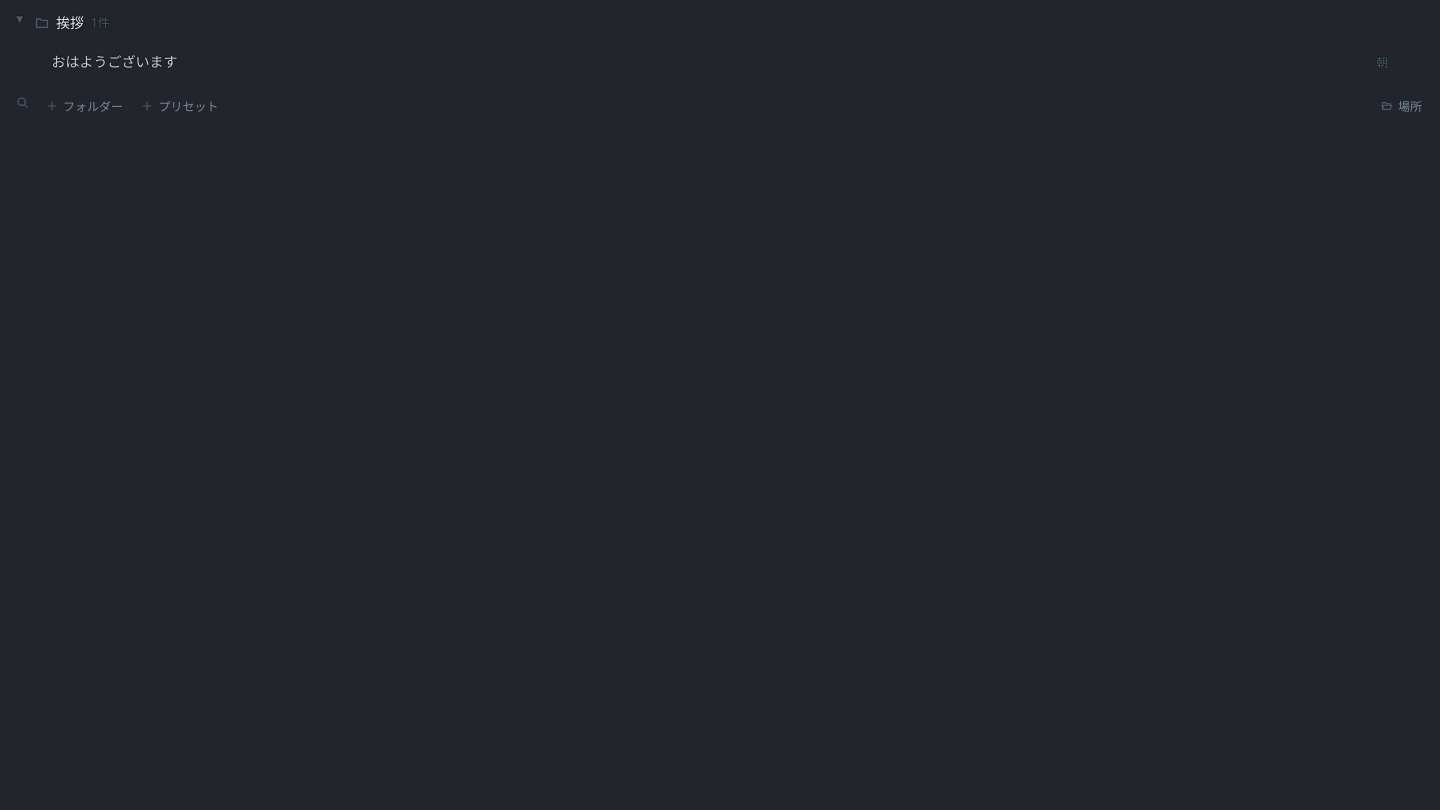
Test: Panel › コピーに失敗したら閉じずに知らせる
Click the button "おはようございます 朝" at (114, 62), box [51,52,1388,71]
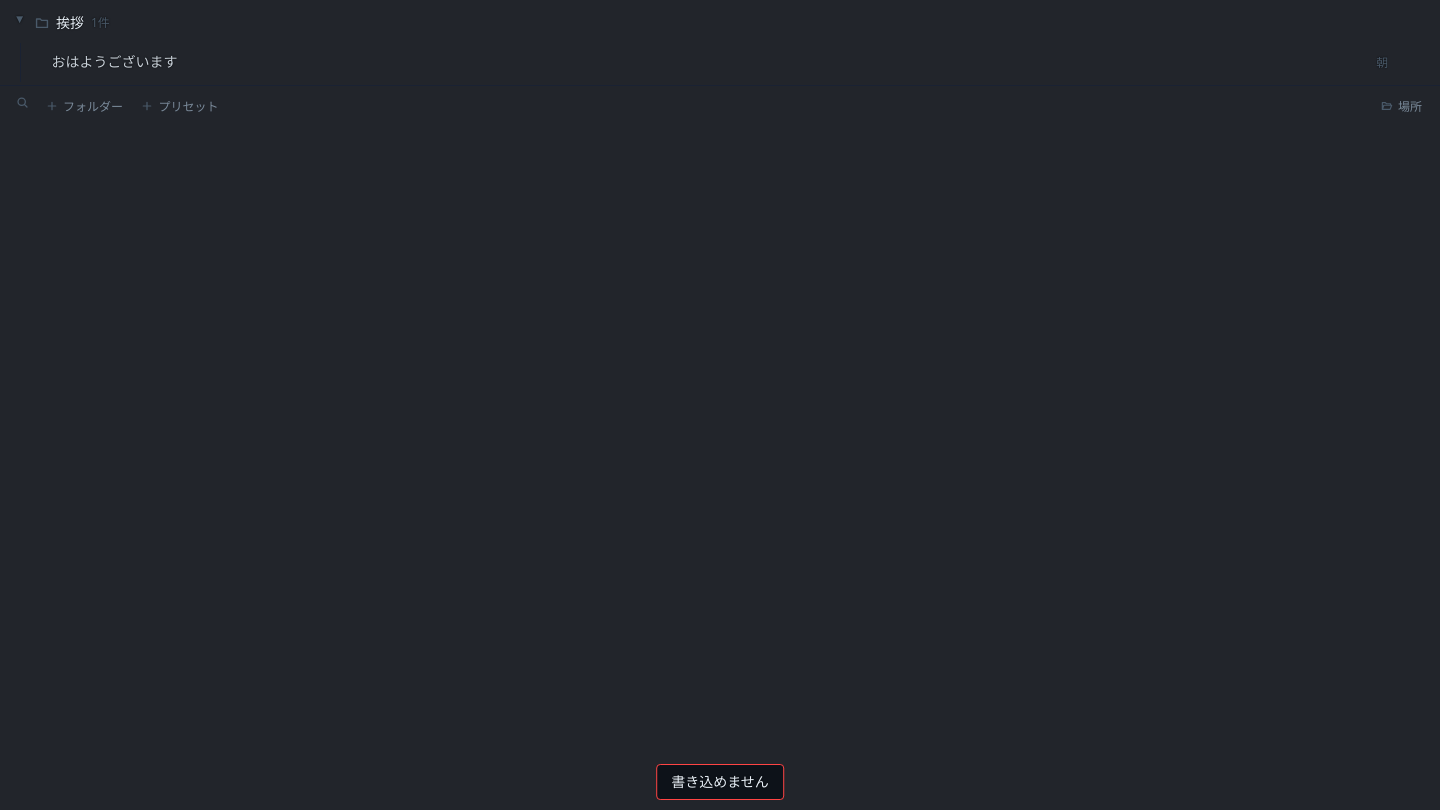
Result: the text with class "toast" reads "書き込めません" at [671,772,769,791]
